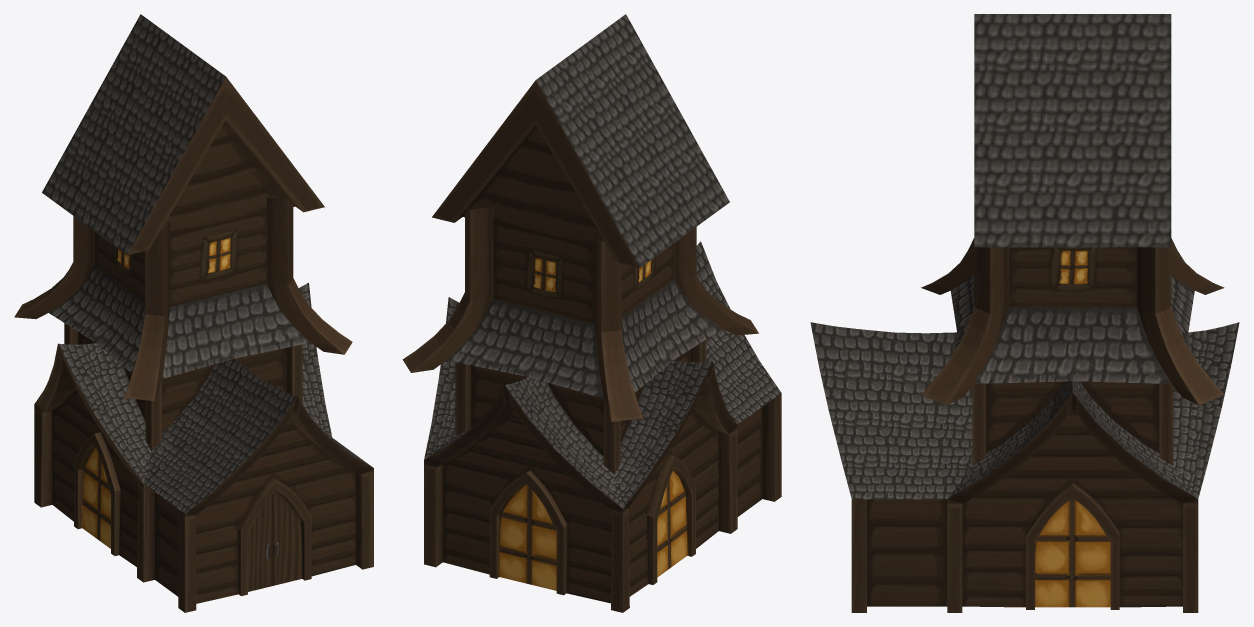
Rendered from MainHall01_Geo.fbx.
3 views of the same model, side by side, from view 1: azimuth 30°, elevation 25°; view 2: azimuth 150°, elevation 25°; view 3: azimuth 270°, elevation 25° (orthographic). The views are drawn at different scales.
Visible parts, largest first — view 1: MainHall01_Geo, MainHall02_Geo; view 2: MainHall01_Geo, MainHall02_Geo; view 3: MainHall01_Geo, MainHall02_Geo.
Part boxes in pixels (left/top/right/bottom): MainHall01_Geo: left=14, top=14, right=352, bottom=582; MainHall02_Geo: left=143, top=213, right=373, bottom=612; MainHall01_Geo: left=402, top=14, right=758, bottom=612; MainHall02_Geo: left=696, top=241, right=781, bottom=516; MainHall01_Geo: left=921, top=14, right=1239, bottom=612; MainHall02_Geo: left=810, top=274, right=974, bottom=612.
Bounding box in the file's own units: 1063 × 1920 × 1368.
